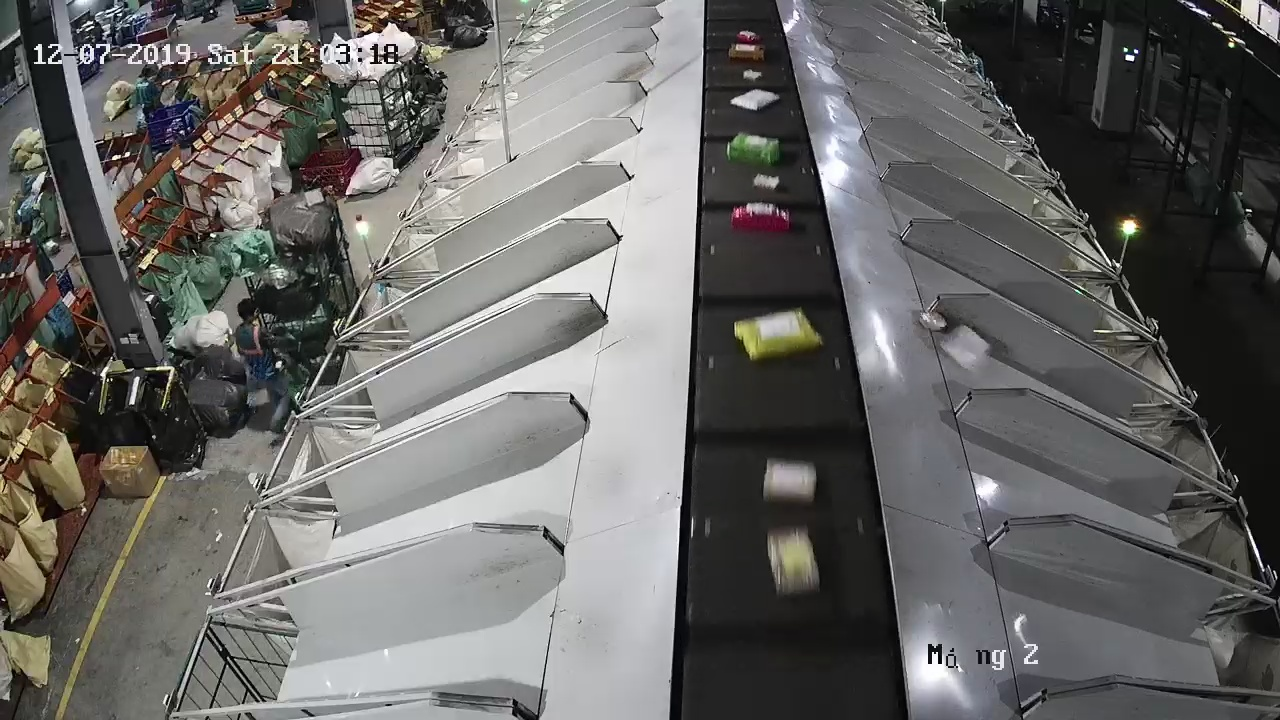parcel: (939, 323, 992, 373)
